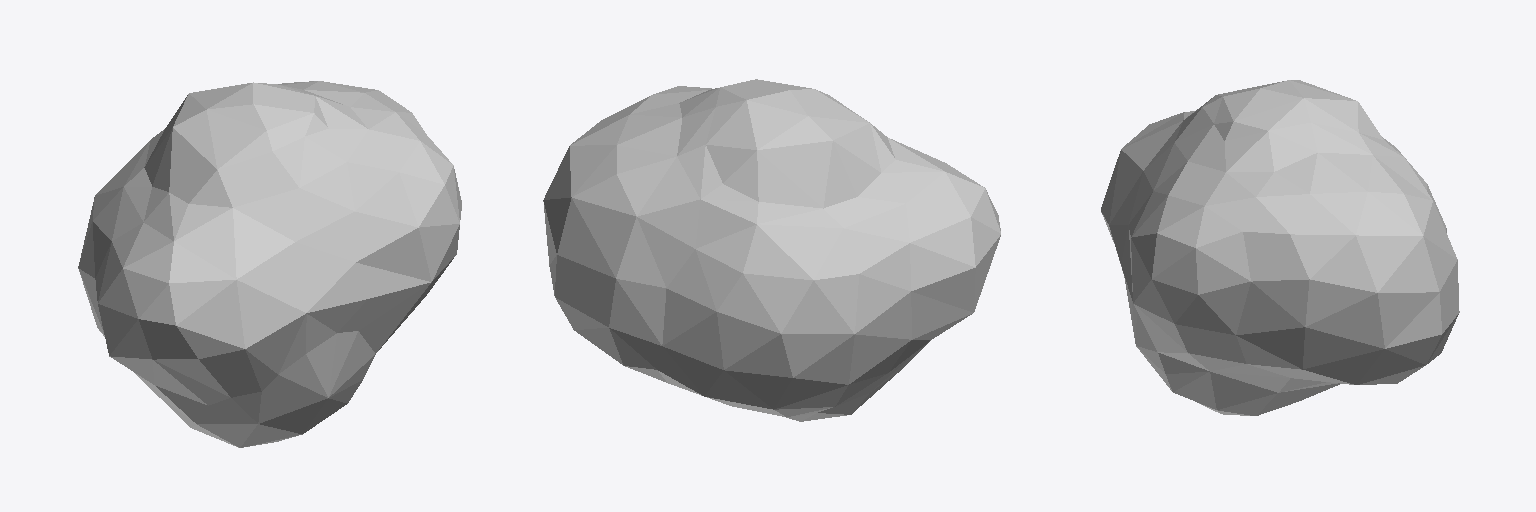
File: stg600_obj_meteoriteB03.obj
3 renders of one model, left to right at view 1: azimuth 30°, elevation 25°; view 2: azimuth 150°, elevation 25°; view 3: azimuth 270°, elevation 25°, orthographic.
Parts seen in each view (by area): view 1: polygon0; view 2: polygon0; view 3: polygon0.
Part boxes in pixels (x1,y1,x2,y2): polygon0: (78, 81, 461, 447); polygon0: (543, 79, 1000, 421); polygon0: (1101, 80, 1459, 415).
Size of the model in its own units: 155 by 132 by 132.